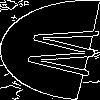W: (25, 25, 100, 78)
